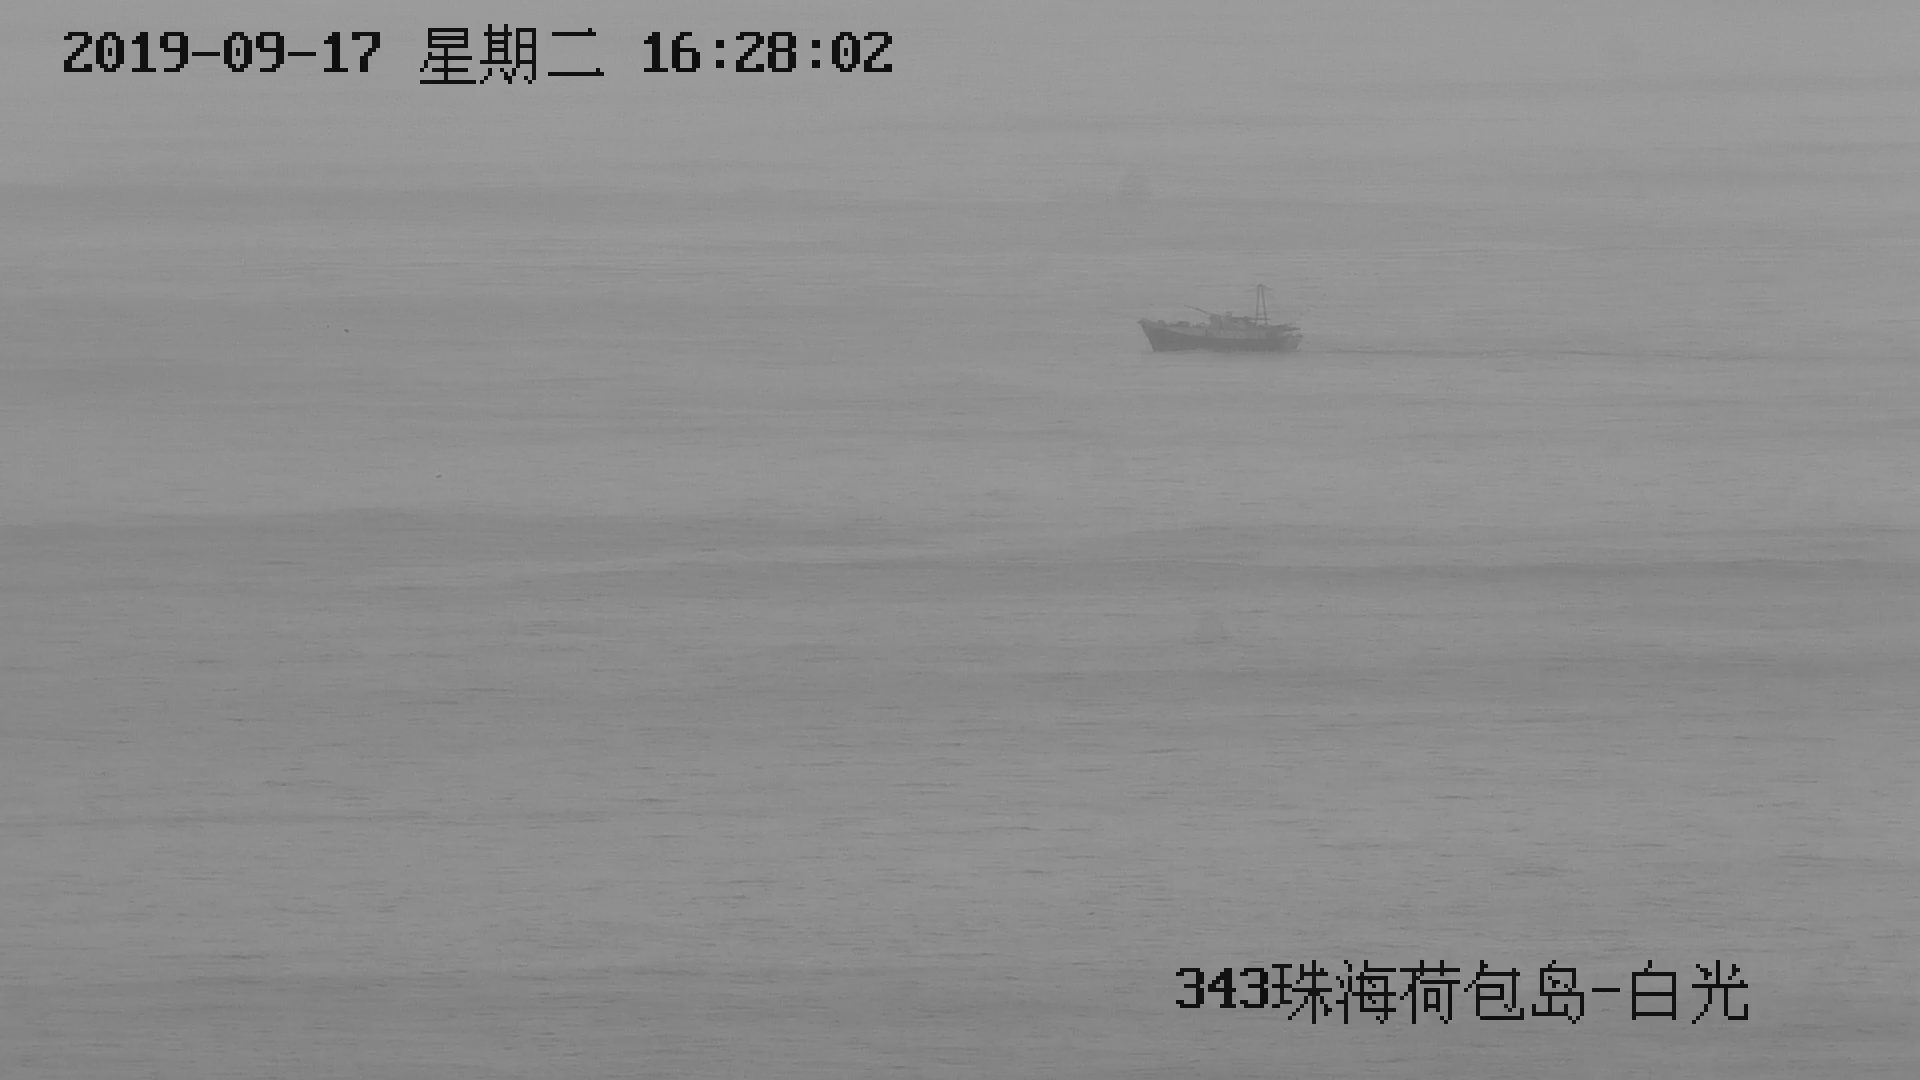ship: (1139, 285, 1302, 351)
